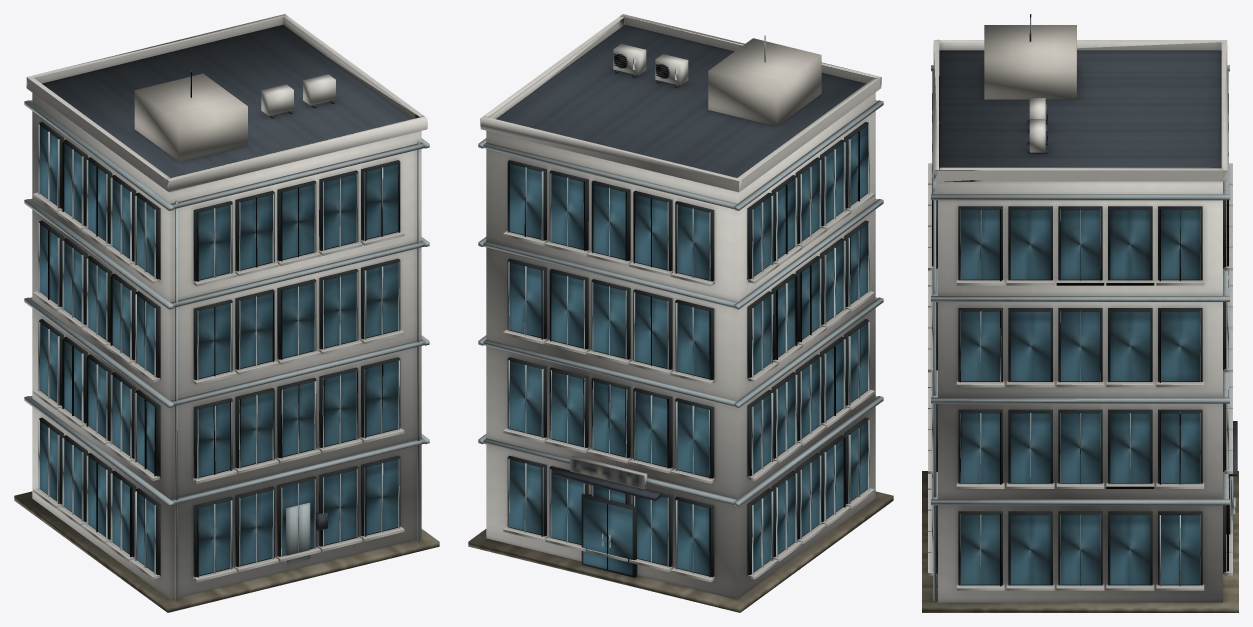
File: office_004.lod1.obj
The picture shows the model from 3 angles, left to right: view 1: azimuth 30°, elevation 25°; view 2: azimuth 150°, elevation 25°; view 3: azimuth 270°, elevation 25°; orthographic projection. The views are drawn at different scales.
Visible parts, largest first — view 1: office_004; view 2: office_004; view 3: office_004.
Boxes of the visible parts, x1,y1,x2,y2 form: office_004: (14, 14, 439, 612); office_004: (468, 14, 893, 612); office_004: (922, 14, 1238, 612).
Bounding box in the file's own units: 9.1 × 15.5 × 8.9.
Materials: 1 (1 with a texture image).
